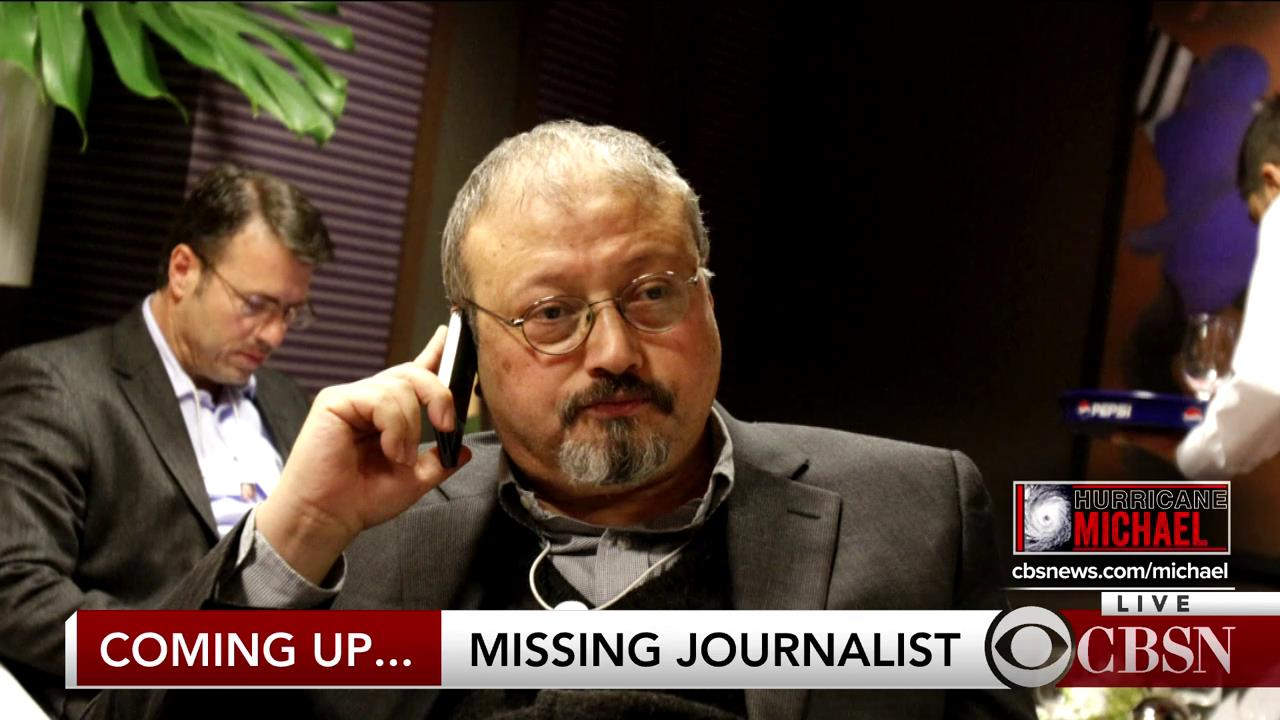CBSN: (1076, 625, 1239, 674)
COMING UP ...: (99, 629, 415, 669)
HURRICANE: (1071, 486, 1228, 508)
LIVE: (1115, 591, 1190, 613)
MICHAEL: (1072, 510, 1208, 547)
MISSING JOURNALIST: (469, 629, 965, 668)
cbsnews.com/michael: (1009, 560, 1230, 582)
